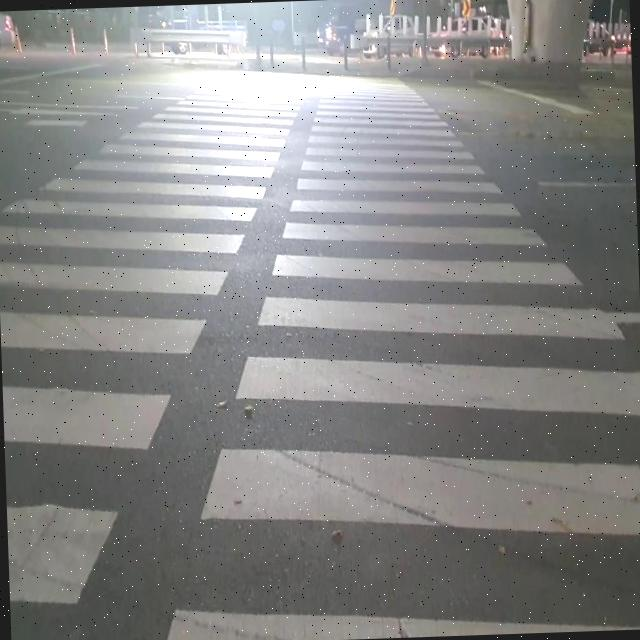crosswalk: (0, 69, 640, 640)
